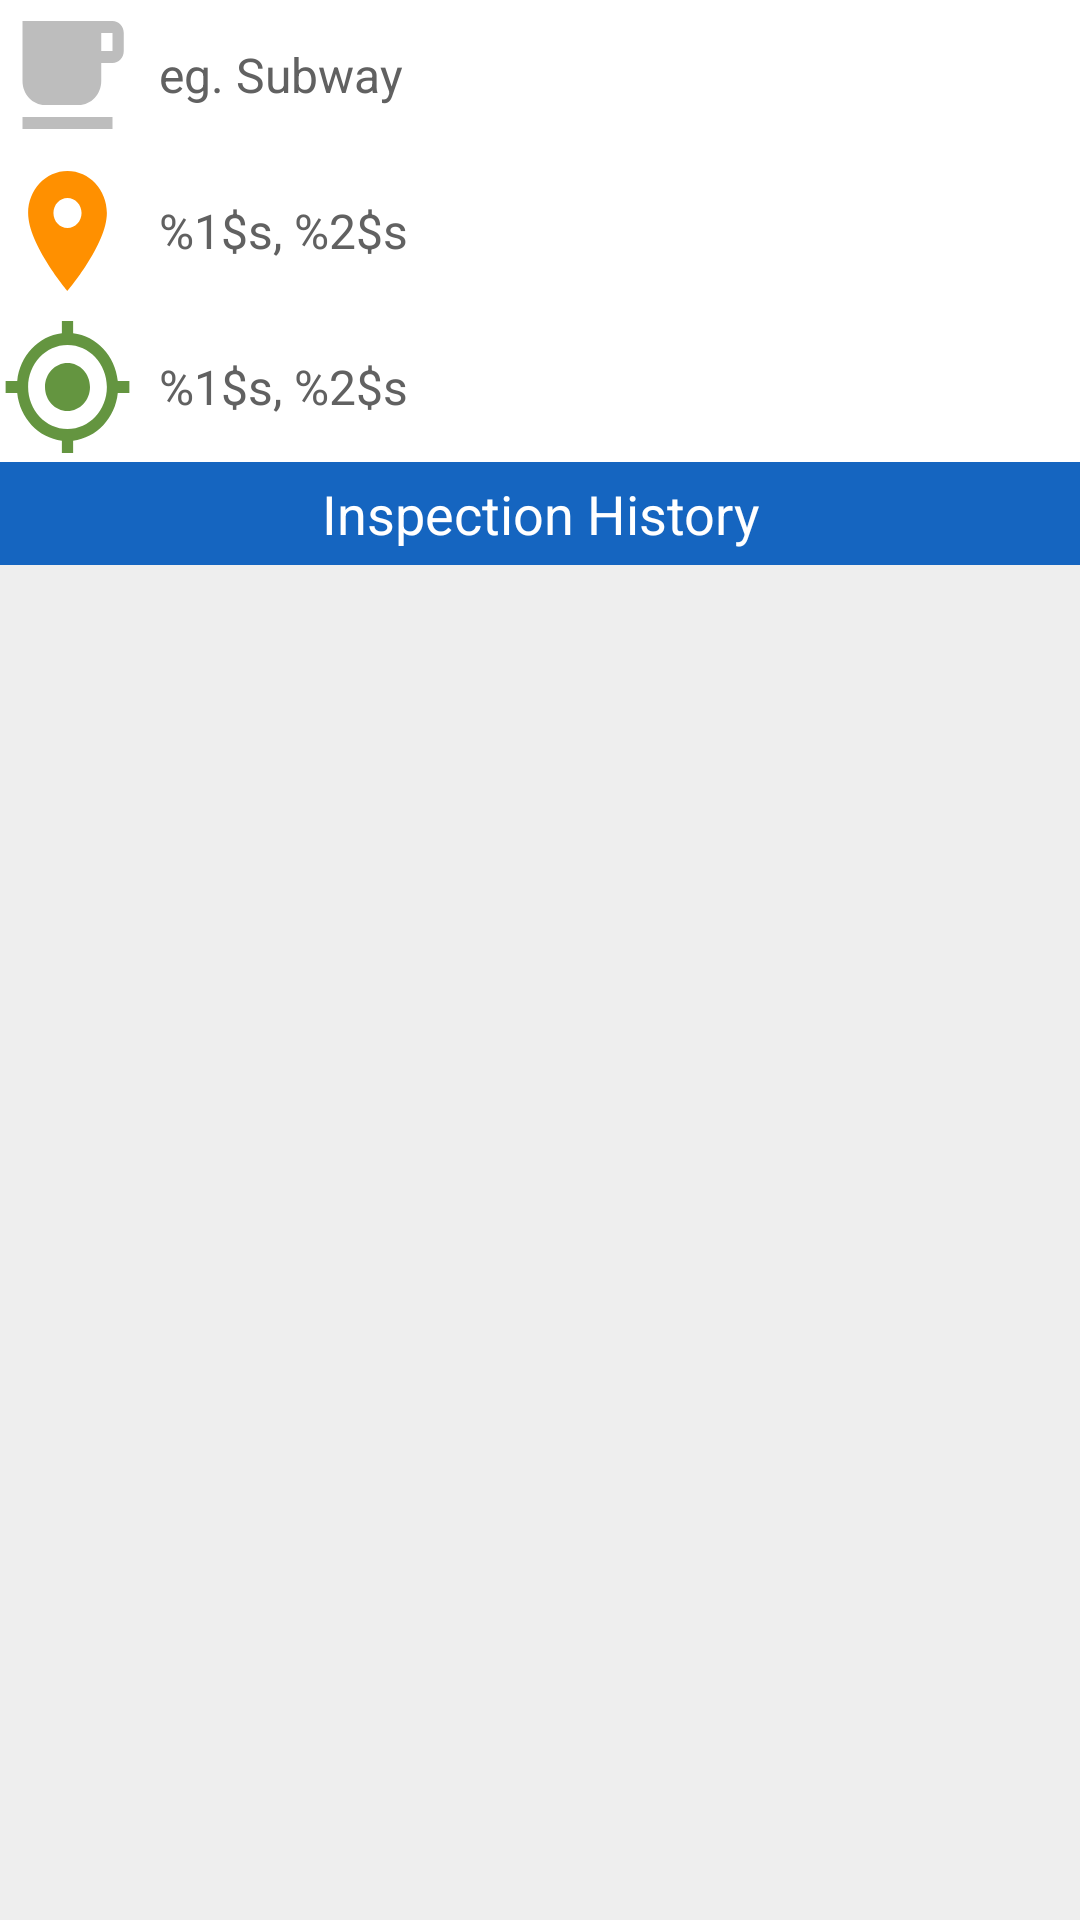

Point at icon controls on the screen. Image size 1080 x 1920, points as (x=x, y=y).
restaurant: (x=73, y=75)
restaurant address: (x=67, y=231)
restaurant gps: (x=67, y=387)
